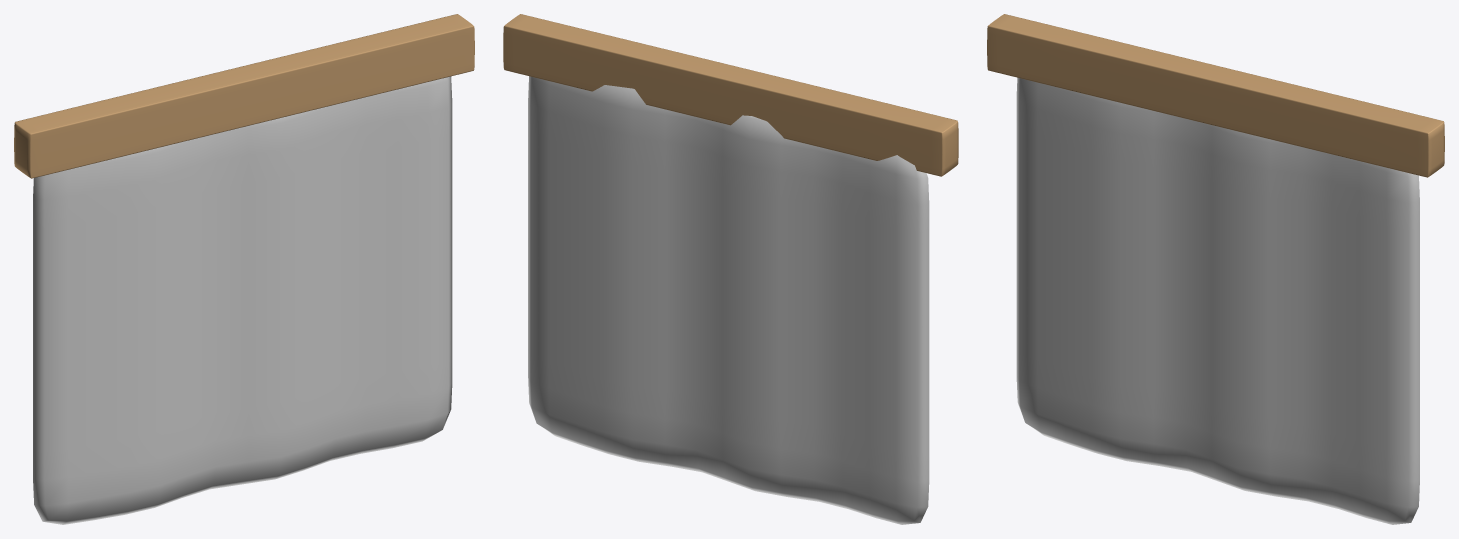
Rendered from apron.glb.
3 renders of one model, left to right at view 1: azimuth 30°, elevation 25°; view 2: azimuth 150°, elevation 25°; view 3: azimuth 330°, elevation 25°, orthographic.
Visible parts, largest first — view 1: Plane, Cube; view 2: Plane, Cube; view 3: Plane, Cube.
Part boxes in pixels (x1,y1,x2,y2): Plane: [33, 76, 452, 524]; Cube: [14, 14, 474, 178]; Plane: [528, 76, 929, 524]; Cube: [503, 14, 958, 176]; Plane: [1016, 77, 1419, 524]; Cube: [987, 14, 1444, 177].
Size of the model in its own units: 0.6197 by 0.5469 by 0.0474.
